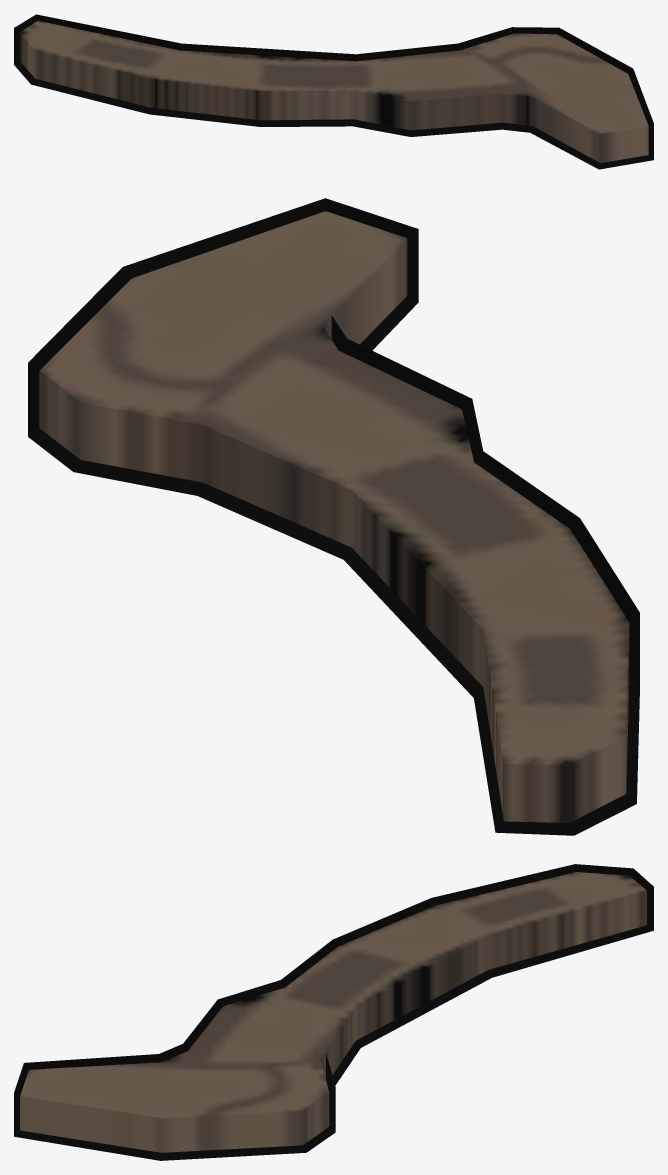
File: Item_Apparel_Bandolier_Things_Pawn_Humanlike_Apparel_HeavyBandolier_HeavyBandolier_Hulk.glb
3 renders of one model, top to bottom at view 1: azimuth 30°, elevation 25°; view 2: azimuth 150°, elevation 25°; view 3: azimuth 270°, elevation 25°, orthographic. The views are drawn at different scales.
Parts seen in each view (by area): view 1: Body, Outline; view 2: Body, Outline; view 3: Body, Outline.
Boxes of the visible parts, bbox=[...] form: Body: bbox=[19, 21, 648, 163]; Outline: bbox=[14, 14, 653, 169]; Body: bbox=[39, 211, 629, 822]; Outline: bbox=[28, 198, 639, 835]; Body: bbox=[20, 872, 646, 1152]; Outline: bbox=[14, 864, 653, 1160].
Bounding box in the file's own units: 0.5274 × 0.046 × 0.5662.
2 materials, 1 textured.
